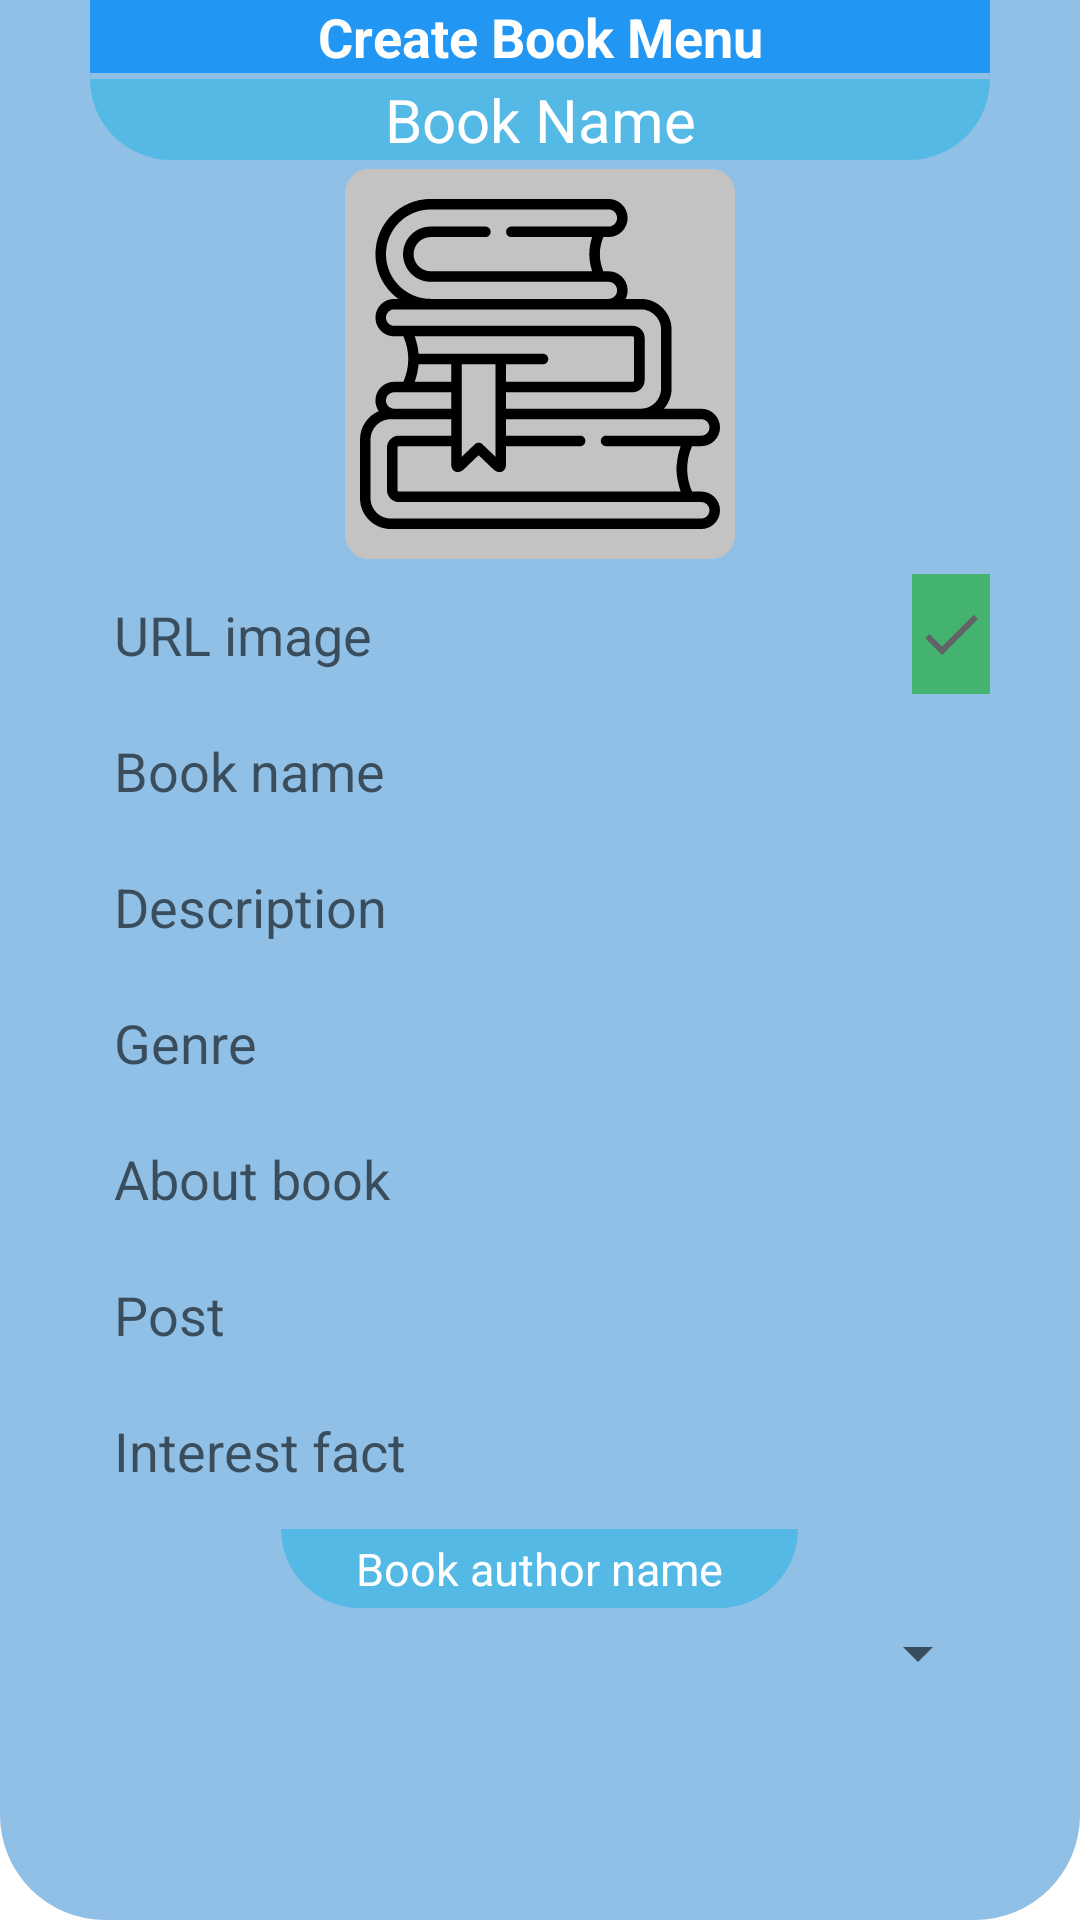

Point at icon controls on the screen. Image size 1080 × 1920, points as (x,y).
check: (951,634)
